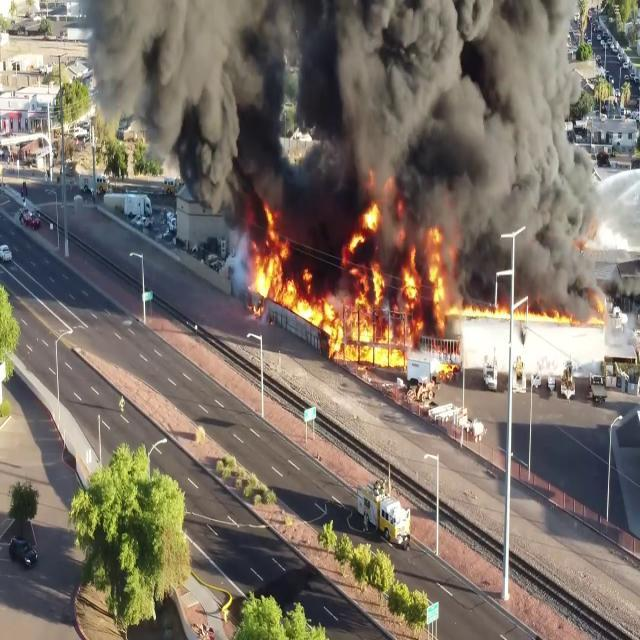Fire: (318, 219, 475, 387), (251, 212, 304, 318), (454, 308, 604, 340)
Smoke: (222, 0, 640, 273), (77, 0, 257, 229)
